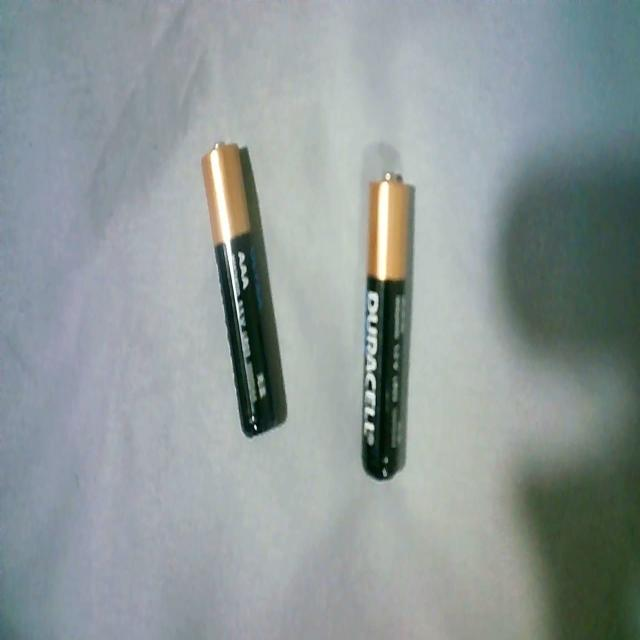AAA: (198, 126, 290, 442), (354, 165, 420, 486)
